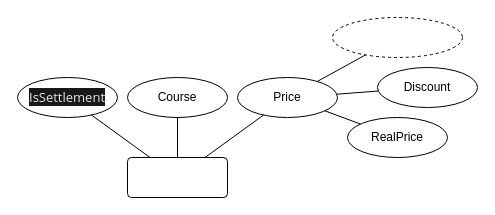
The diagram is 495 pixels wide and 215 high, and some of its shapes have lost their labels. The centre of each missing label's shape, as x and y in pixels:
"DiscountedPrice" goes at pixel 397 37.
"SaleFlow" goes at pixel 177 177.
